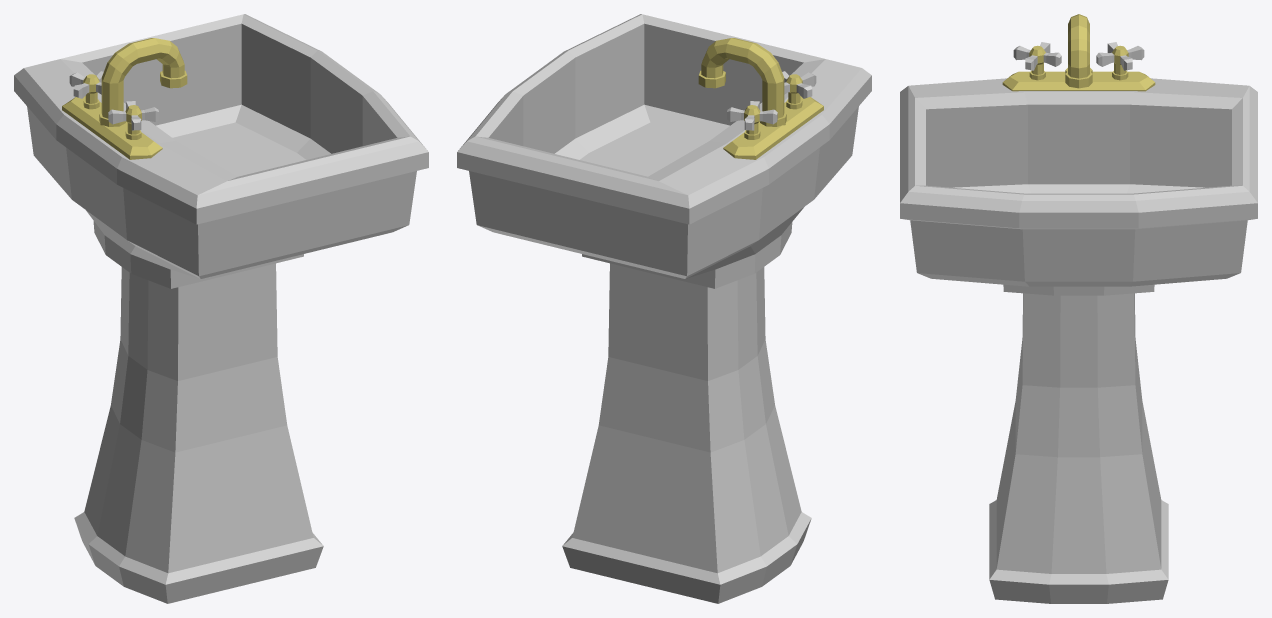
File: sink.fbx
3 renders of one model, left to right at view 1: azimuth 30°, elevation 25°; view 2: azimuth 150°, elevation 25°; view 3: azimuth 270°, elevation 25°, orthographic.
Visible parts, largest first — view 1: Cube.001; view 2: Cube.001; view 3: Cube.001.
Boxes of the visible parts, x1,y1,x2,y2 form: Cube.001: [14, 14, 428, 603]; Cube.001: [457, 14, 871, 603]; Cube.001: [900, 14, 1257, 603].
Bounding box in the file's own units: 63.21 × 118 × 73.69.
